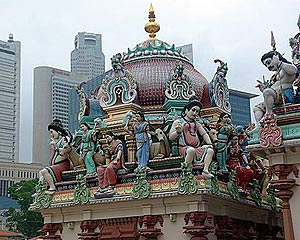Hindu Temple: (41, 21, 257, 210)
